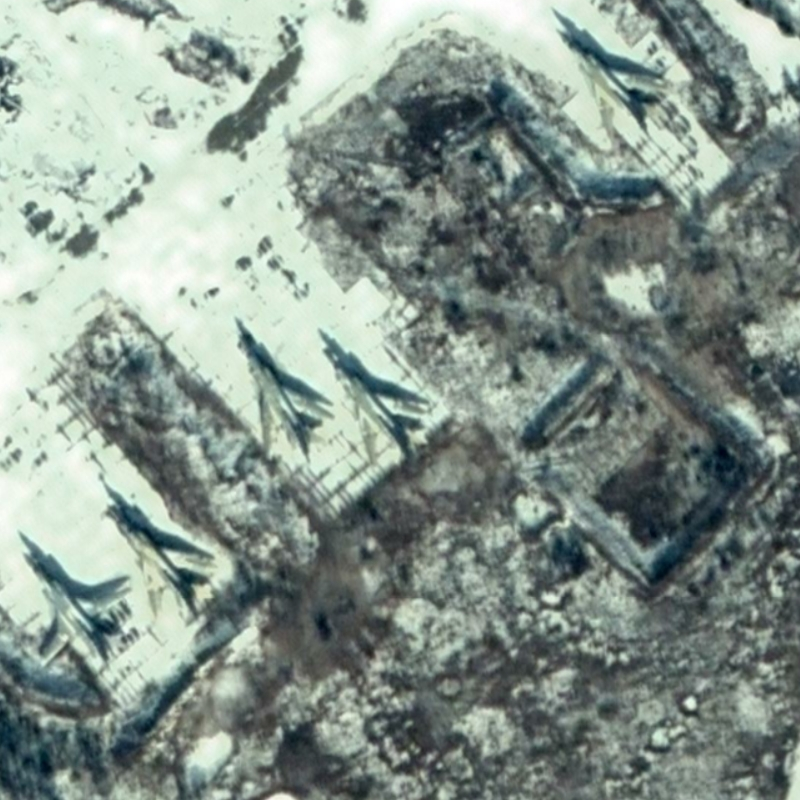A12: (93, 487, 220, 622), (226, 314, 339, 460), (550, 25, 678, 143), (18, 548, 134, 668), (316, 342, 429, 463)
